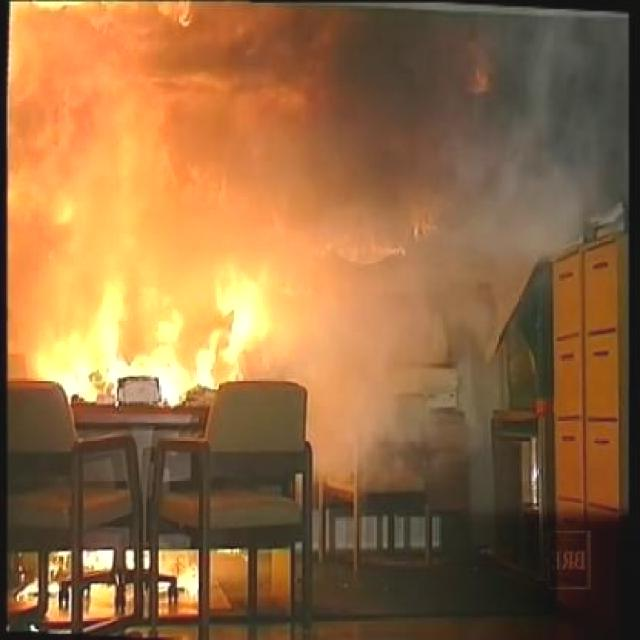fire: (8, 140, 286, 394)
smoke: (381, 7, 627, 272)
